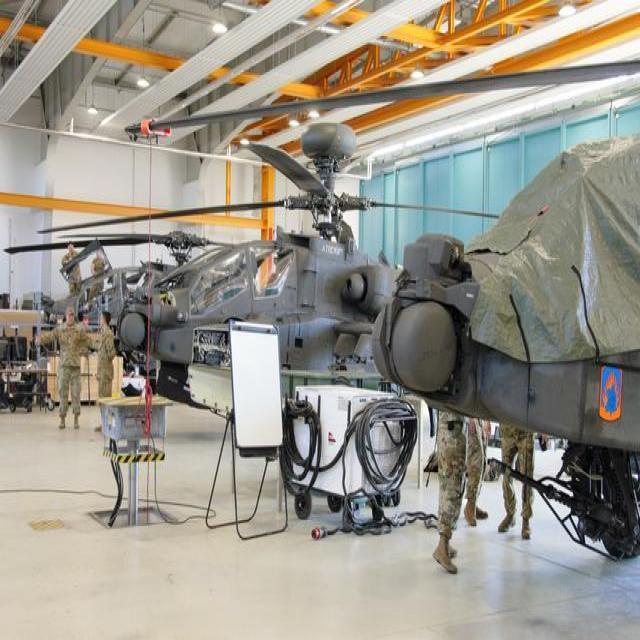MIL_HELO: (32, 116, 520, 442), (379, 128, 640, 506)
